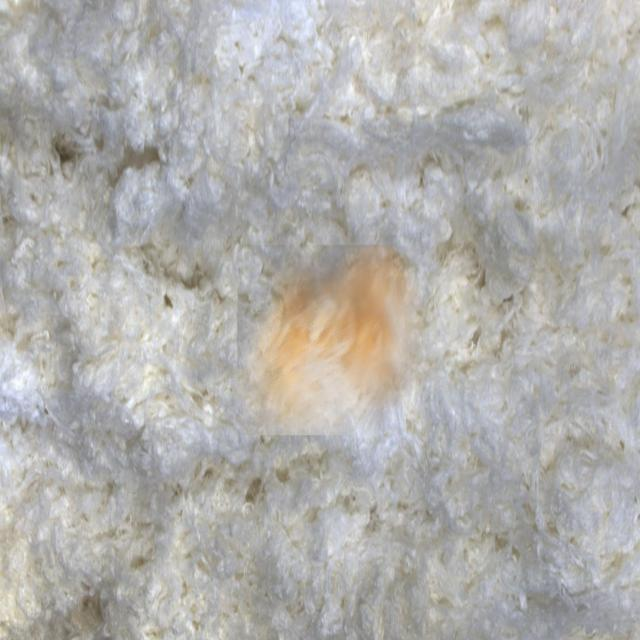dust: (237, 245, 423, 435)
